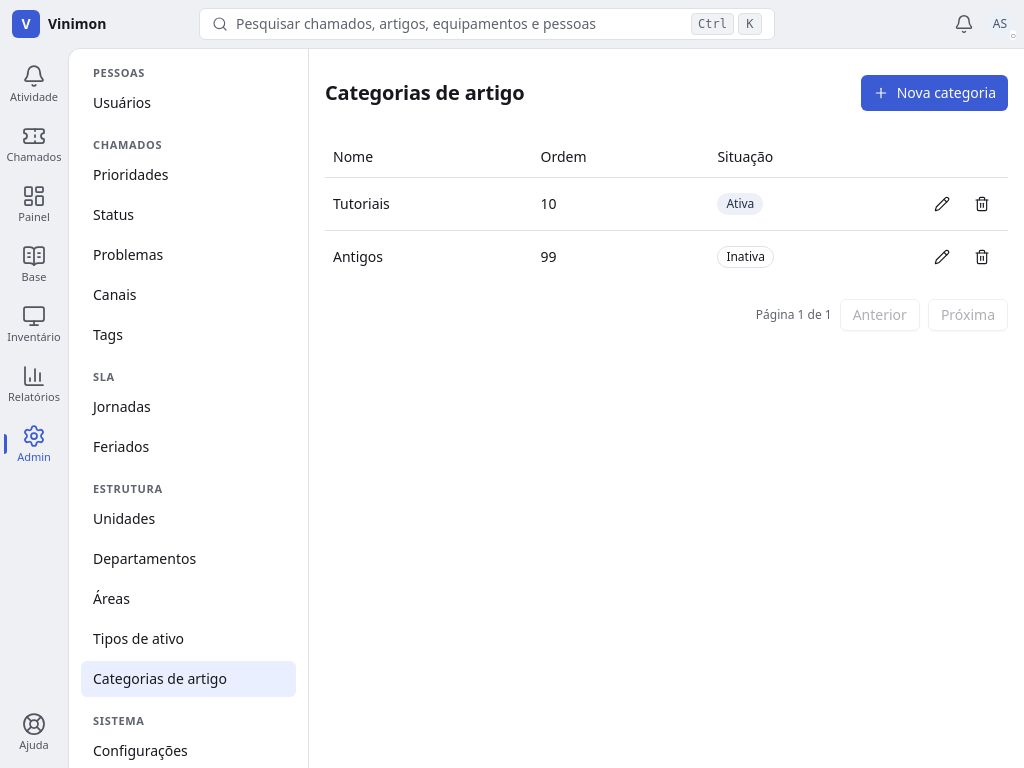
Test case: /admin/categorias-artigo › (b) excluir confirma e faz DELETE /categorias-artigo/:id
This screenshot has width=1024, height=768.
Click the button named "Excluir Tutoriais": coordinates (982, 204) 964,186 -> 1000,222
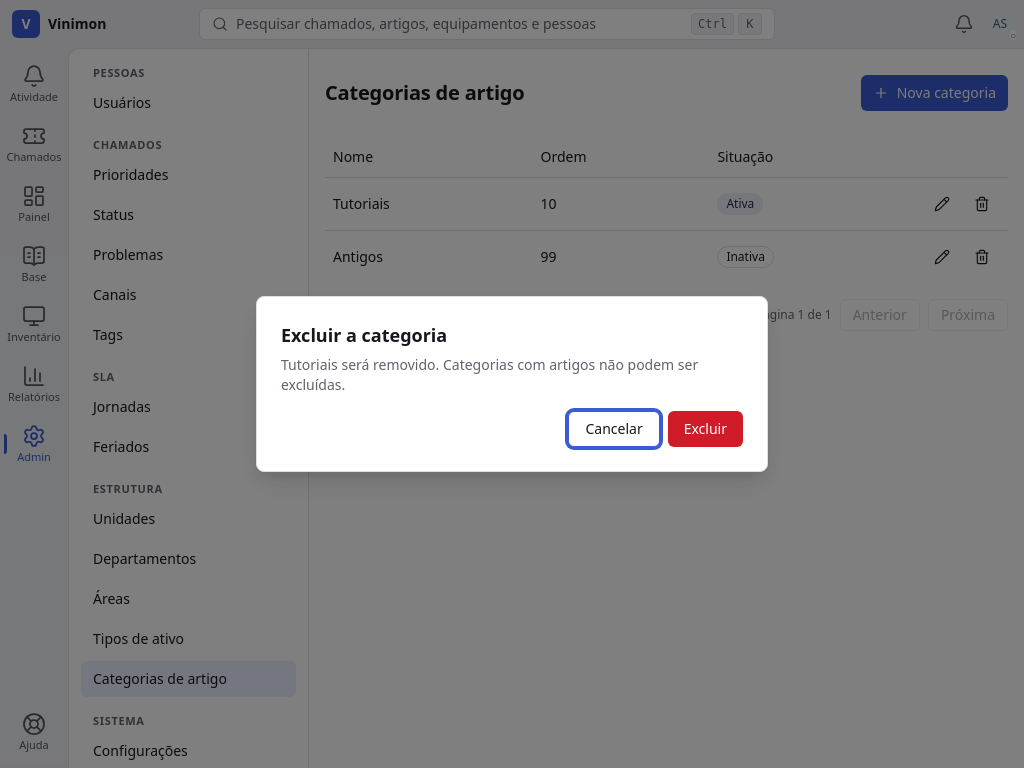
Click the button "Excluir": coordinates (705, 429) 668,411 -> 743,447
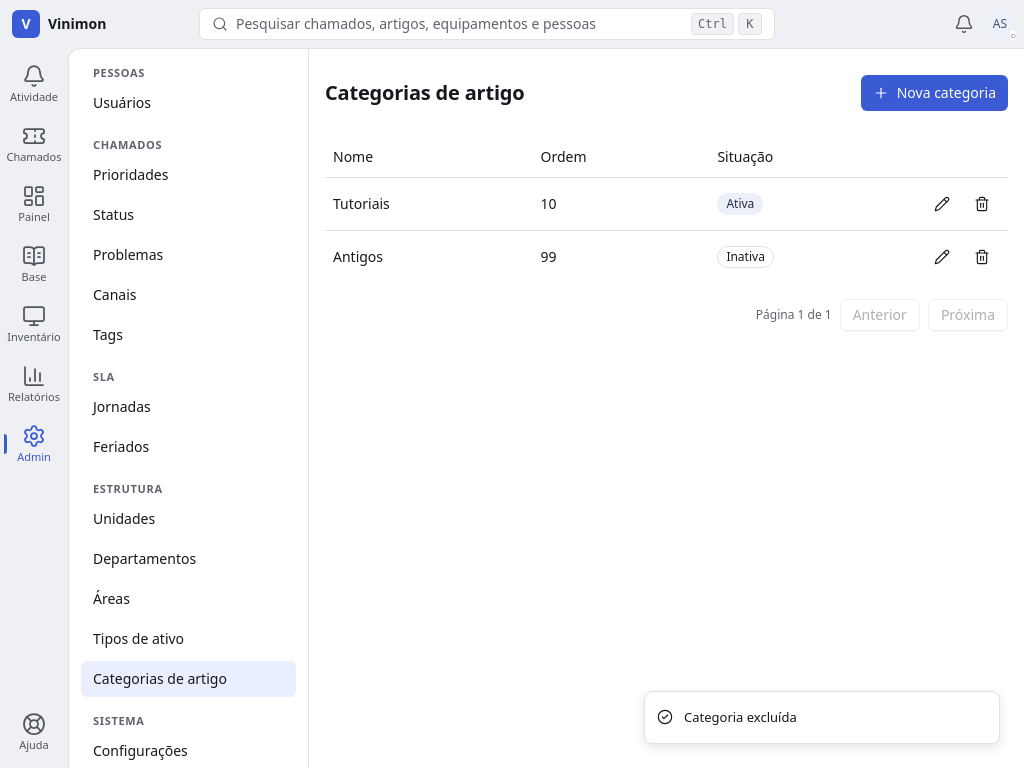
expect the text "Categoria excluída" is shown: met, box 684,708 -> 797,727
